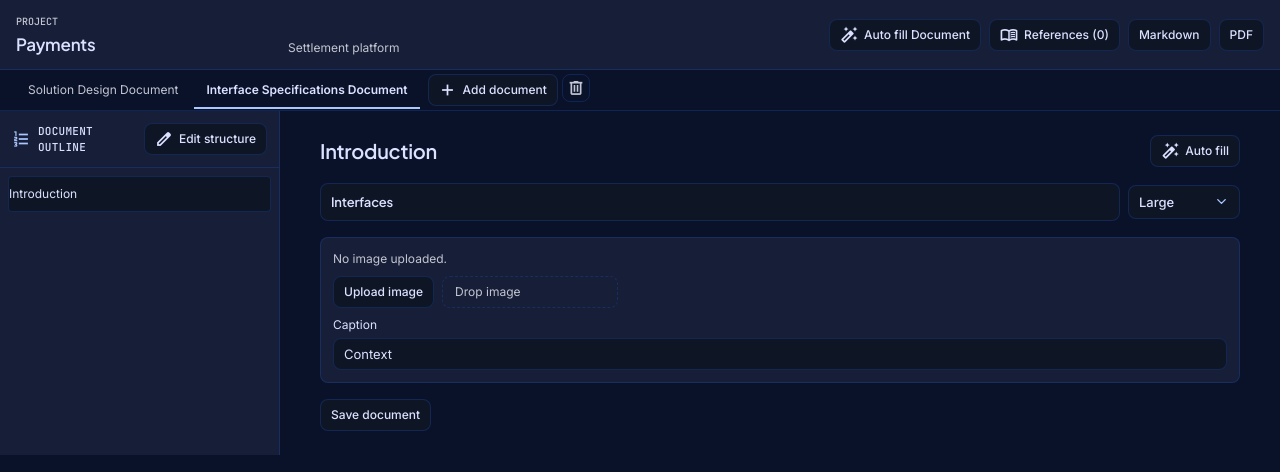
renames a section from the outline and shows the new title
Expected: the heading "Introduction" is shown, [320, 137, 437, 165]
Click the button "Edit structure" at [205, 139], box [144, 123, 267, 155]
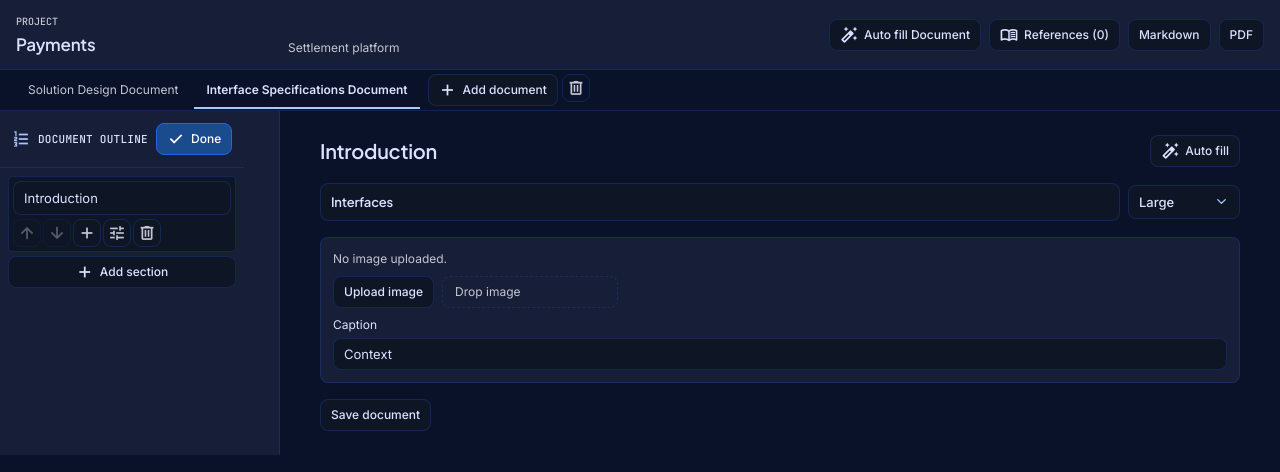
Replace the text in the field named "Section name Introduction" with "Overview" at [122, 198], box [13, 181, 231, 215]
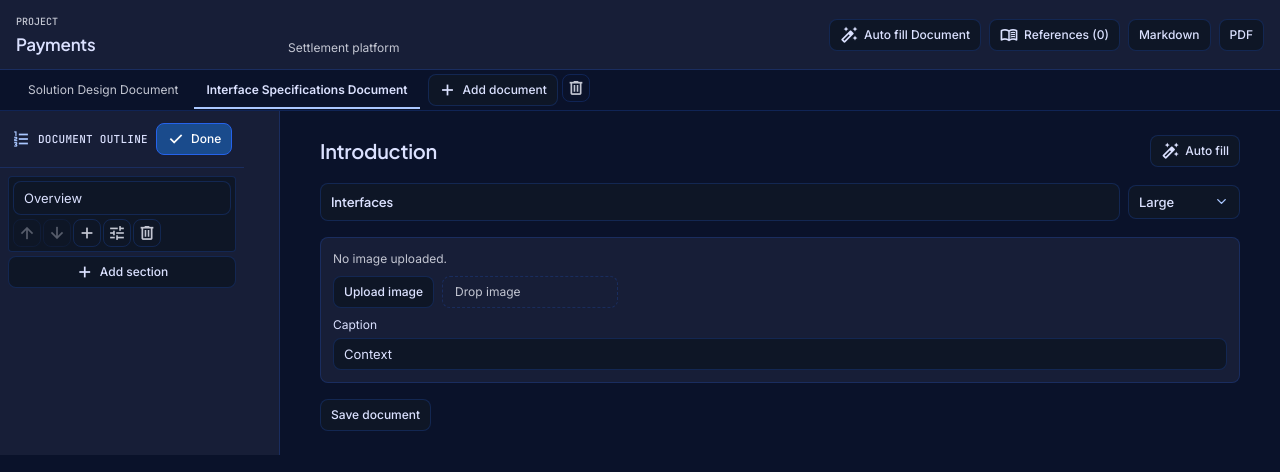
Leave the field named "Section name Introduction", box [13, 181, 231, 215]
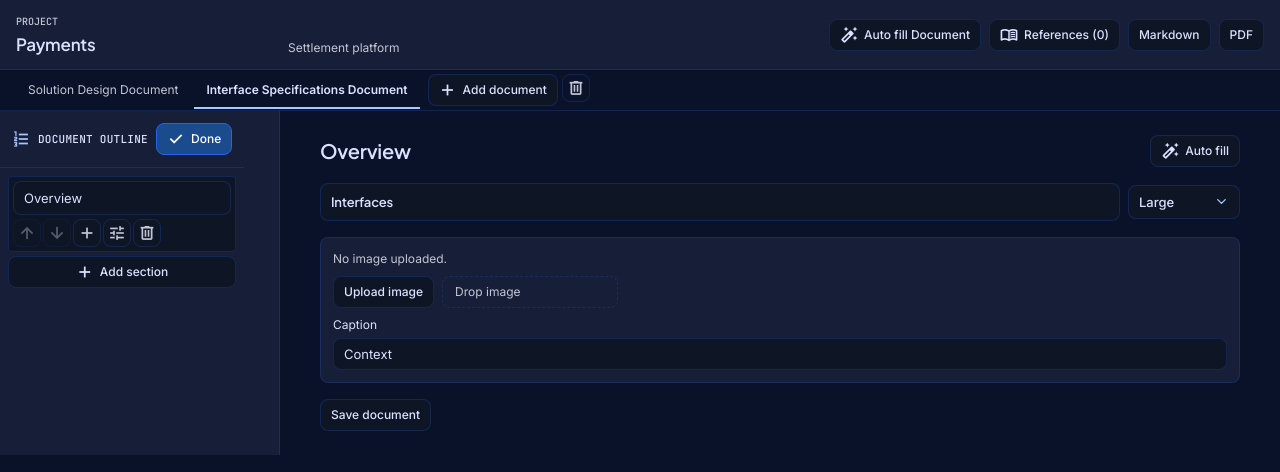
Expected: the heading "Overview" is shown, [320, 137, 411, 165]
